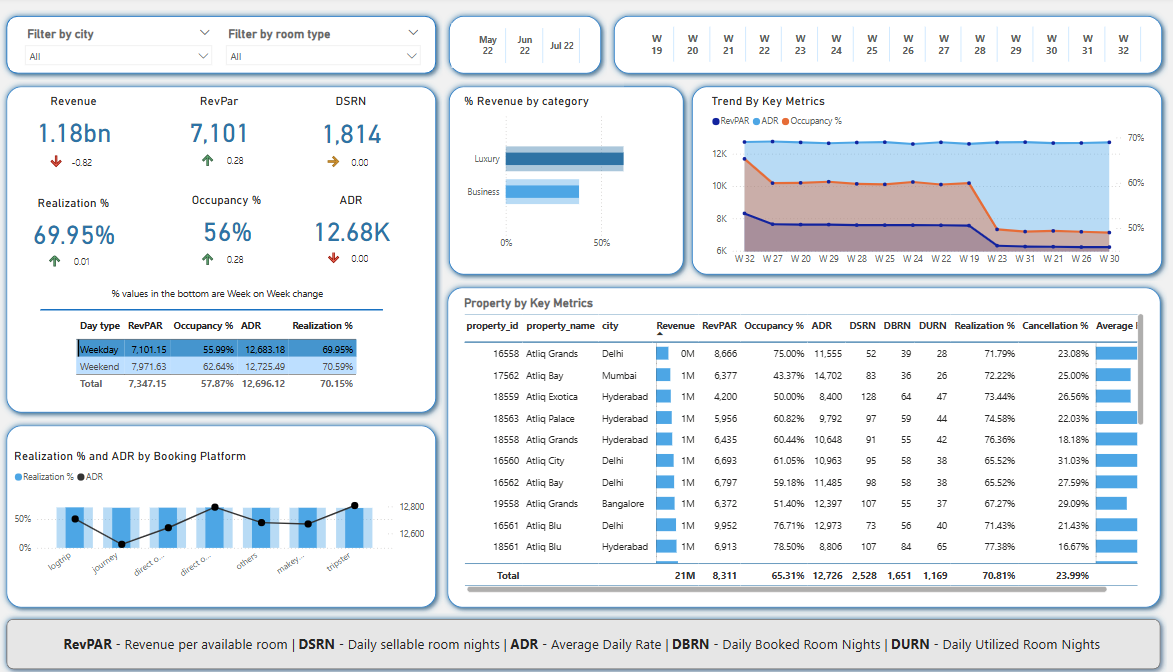

The page's visual inventory and layout, read from the dashboard file:
{"tool":"powerbi","page":{"name":"Page 1","canvas":[1650,950],"ordinal":0},"visuals":[{"type":"shape","box":[0,18.9,619.1,98.6],"z":0},{"type":"shape","box":[850,18.9,784.9,98.6],"z":1000},{"type":"shape","box":[619.1,18.9,230.9,98.6],"z":2000},{"type":"shape","box":[959.1,117.5,675.8,281.2],"z":3000},{"type":"shape","box":[619.1,117.5,346.3,281.2],"z":4000},{"type":"shape","box":[617,398.8,1015.8,465.9],"z":5000},{"type":"shape","box":[0,591.8,619.1,272.8],"z":6000},{"type":"shape","box":[0,117.5,619.1,474.3],"z":7000},{"type":"tableEx","title":"Revenue","fields":{"Values":["key_measures.ADR WoW change %"]},"box":[447,327.4,88.1,60.9],"z":8000},{"type":"tableEx","title":"Revenue","fields":{"Values":["key_measures.Occupancy WoW change %"]},"box":[270.7,329.5,90.2,58.8],"z":9000},{"type":"tableEx","title":"Revenue","fields":{"Values":["key_measures.Realisation WoW change %"]},"box":[56.7,331.6,88.1,60.9],"z":10000},{"type":"tableEx","title":"Revenue","fields":{"Values":["key_measures.DSRN WoW change %"]},"box":[447,193.1,88.1,58.8],"z":11000},{"type":"tableEx","title":"Revenue","fields":{"Values":["key_measures.Revenue WoW change %"]},"box":[58.8,193.1,90.2,58.8],"z":12000},{"type":"tableEx","title":"Property by Key Metrics","fields":{"Values":["dim_hotels.property_id","dim_hotels.property_name","dim_hotels.city","key_measures.Revenue","key_measures.RevPAR","key_measures.Occupancy %","key_measures.ADR","key_measures.DSRN","key_measures.DBRN","key_measures.DURN","key_measures.Realization %","key_measures.Cancellation %"]},"box":[644.3,419.7,961.2,419.7],"z":13000},{"type":"slicer","fields":{"Values":["dim_hotels.city"]},"box":[25.2,37.8,281.2,63],"z":14000},{"type":"slicer","fields":{"Values":["dim_rooms.room_class"]},"box":[306.4,37.8,291.7,63],"z":15000},{"type":"slicer","fields":{"Values":["dim_date.mmm yy"]},"box":[631.7,37.8,203.6,63],"z":16000},{"type":"slicer","fields":{"Values":["dim_date.week no"]},"box":[868.9,35.7,751.3,63],"z":17000},{"type":"card","title":"Revenue","fields":{"Values":["key_measures.Revenue"]},"box":[25.2,136.4,155.3,83.9],"z":18000},{"type":"donutChart","title":"% Revenue by category","fields":{"Category":["dim_hotels.category"],"Y":["key_measures.Revenue"]},"box":[644.3,136.4,293.8,226.7],"z":19000},{"type":"tableEx","title":"Revenue","fields":{"Values":["key_measures.Revpar WoW change %"]},"box":[270.7,191,90.2,58.8],"z":20000},{"type":"card","title":"DSRN","fields":{"Values":["key_measures.DSRN"]},"box":[413.4,136.4,155.3,86],"z":21000},{"type":"card","title":"RevPar","fields":{"Values":["key_measures.RevPAR"]},"box":[228.8,136.4,155.3,83.9],"z":22000},{"type":"card","title":"Occupancy %","fields":{"Values":["key_measures.Occupancy %"]},"box":[239.3,274.9,155.3,83.9],"z":23000},{"type":"card","title":"ADR","fields":{"Values":["key_measures.ADR"]},"box":[413.4,274.9,155.3,83.9],"z":24000},{"type":"card","title":"Realization %","fields":{"Values":["key_measures.Realization %"]},"box":[25.2,279.1,155.3,83.9],"z":25000},{"type":"lineChart","title":"Trend By Key Metrics","fields":{"Category":["dim_date.mmm yy.Variation.Date Hierarchy.Month","dim_date.week no"],"Y":["key_measures.RevPAR","key_measures.ADR"],"Y2":["key_measures.Occupancy %"]},"box":[990.6,136.4,614.9,249.7],"z":26000},{"type":"lineClusteredColumnComboChart","title":"Realization % and ADR by Booking Platform","fields":{"Category":["fact_bookings.booking_platform"],"Y":["key_measures.Realization %"],"Y2":["key_measures.ADR"]},"box":[14.7,633.8,583.4,191],"z":27000},{"type":"tableEx","fields":{"Values":["dim_date.day_type","key_measures.RevPAR","key_measures.Occupancy %","key_measures.ADR","key_measures.Realization %"]},"box":[100.7,442.8,417.6,125.9],"z":28000},{"type":"shape","box":[0,862.8,1632.6,88.4],"z":29000},{"type":"textbox","box":[83.7,888.4,1483.7,39.5],"z":30000},{"type":"shape","box":[55.8,402.3,479.1,72.1],"z":31000},{"type":"textbox","box":[151.2,400,314,34.9],"z":31001}]}

Visuals, with their boxes in screenshot pixels (x1, y1, x2, y2), scaled from the page's 1650x950 canvas onto the 1173x672 screenshot:
shape: bbox(0, 13, 440, 83)
shape: bbox(604, 13, 1162, 83)
shape: bbox(440, 13, 604, 83)
shape: bbox(682, 83, 1162, 282)
shape: bbox(440, 83, 686, 282)
shape: bbox(439, 282, 1161, 612)
shape: bbox(0, 419, 440, 612)
shape: bbox(0, 83, 440, 419)
"Revenue" tableEx: bbox(318, 232, 380, 275)
"Revenue" tableEx: bbox(192, 233, 257, 275)
"Revenue" tableEx: bbox(40, 235, 103, 278)
"Revenue" tableEx: bbox(318, 137, 380, 178)
"Revenue" tableEx: bbox(42, 137, 106, 178)
"Property by Key Metrics" tableEx: bbox(458, 297, 1141, 594)
slicer - dim_hotels.city: bbox(18, 27, 218, 71)
slicer - dim_rooms.room_class: bbox(218, 27, 425, 71)
slicer - dim_date.mmm yy: bbox(449, 27, 594, 71)
slicer - dim_date.week no: bbox(618, 25, 1152, 70)
"Revenue" card: bbox(18, 96, 128, 156)
"% Revenue by category" donutChart: bbox(458, 96, 667, 257)
"Revenue" tableEx: bbox(192, 135, 257, 177)
"DSRN" card: bbox(294, 96, 404, 157)
"RevPar" card: bbox(163, 96, 273, 156)
"Occupancy %" card: bbox(170, 194, 281, 254)
"ADR" card: bbox(294, 194, 404, 254)
"Realization %" card: bbox(18, 197, 128, 257)
"Trend By Key Metrics" lineChart: bbox(704, 96, 1141, 273)
"Realization % and ADR by Booking Platform" lineClusteredColumnComboChart: bbox(10, 448, 425, 583)
tableEx - dim_date.day_type x key_measures.RevPAR: bbox(72, 313, 368, 402)
shape: bbox(0, 610, 1161, 671)
textbox: bbox(60, 628, 1114, 656)
shape: bbox(40, 285, 380, 336)
textbox: bbox(107, 283, 331, 308)
